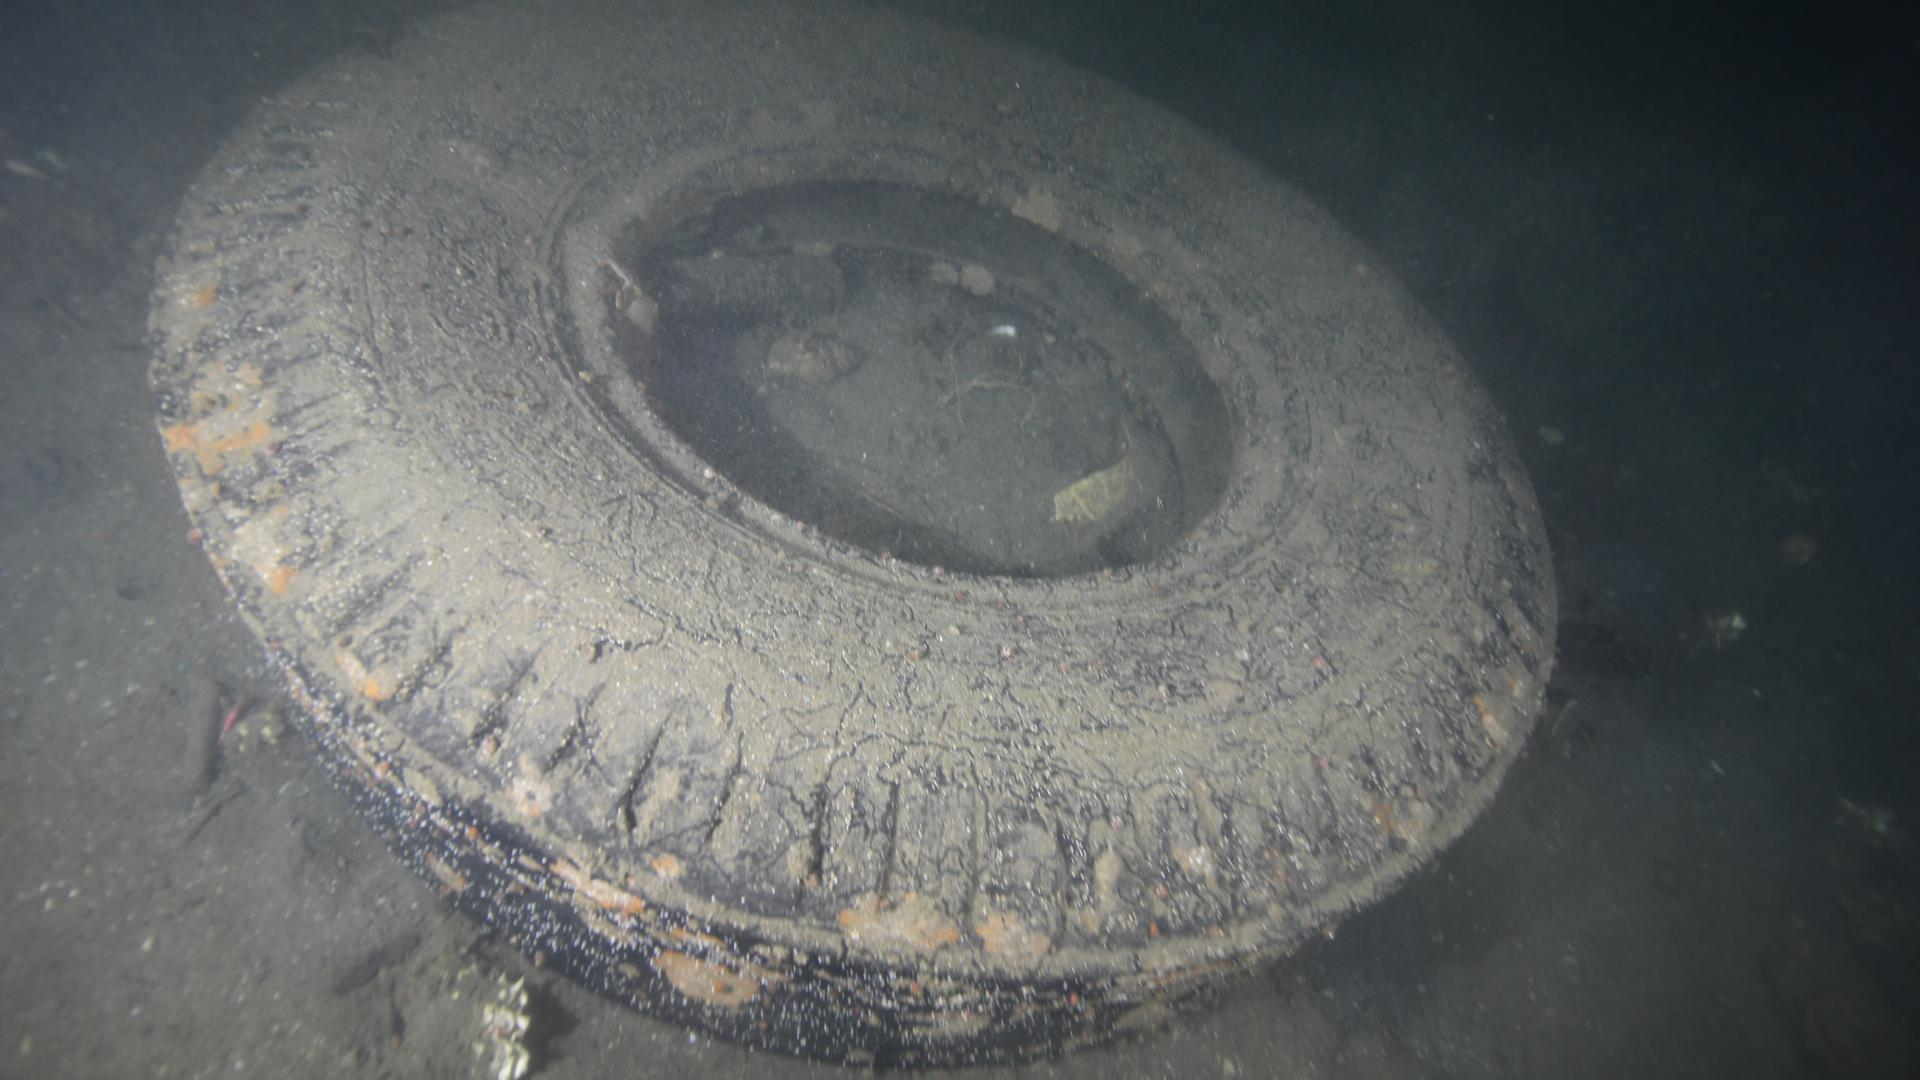tire: (145, 0, 1551, 1062)
